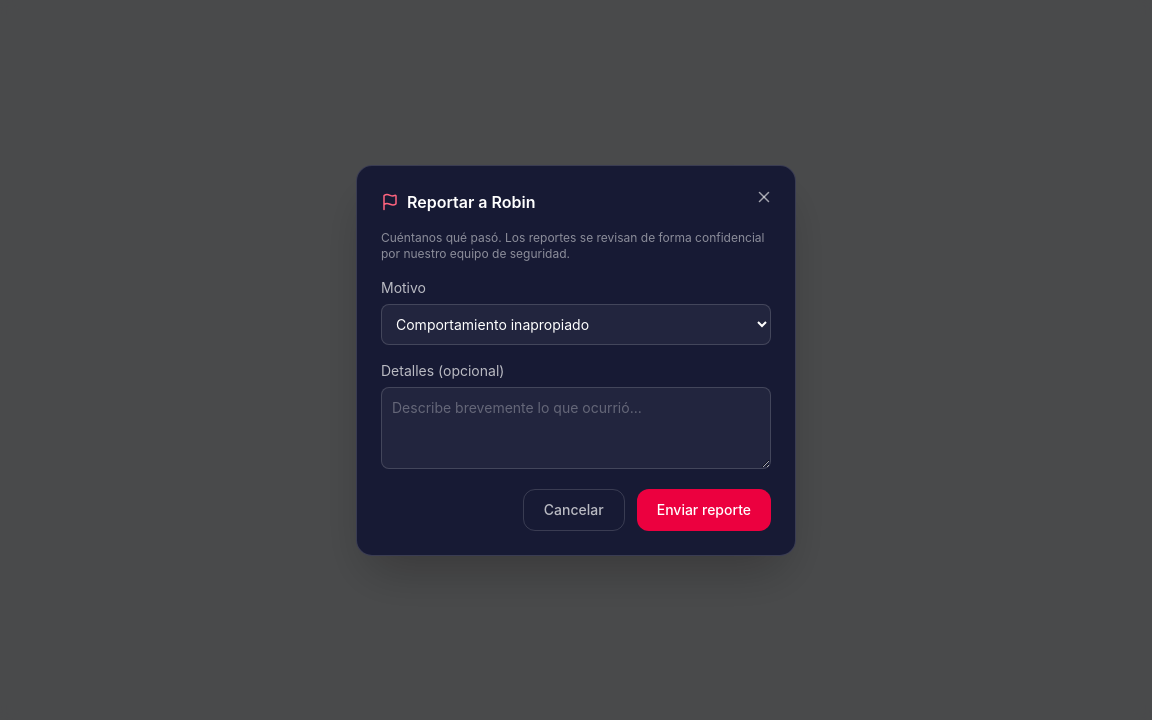
Test: ReportProfileModal › envía el reporte con el motivo seleccionado y muestra la confirmación
The width and height of the screenshot is (1152, 720).
Click the button "Enviar reporte" at point(704, 510), box [637,488,771,530]
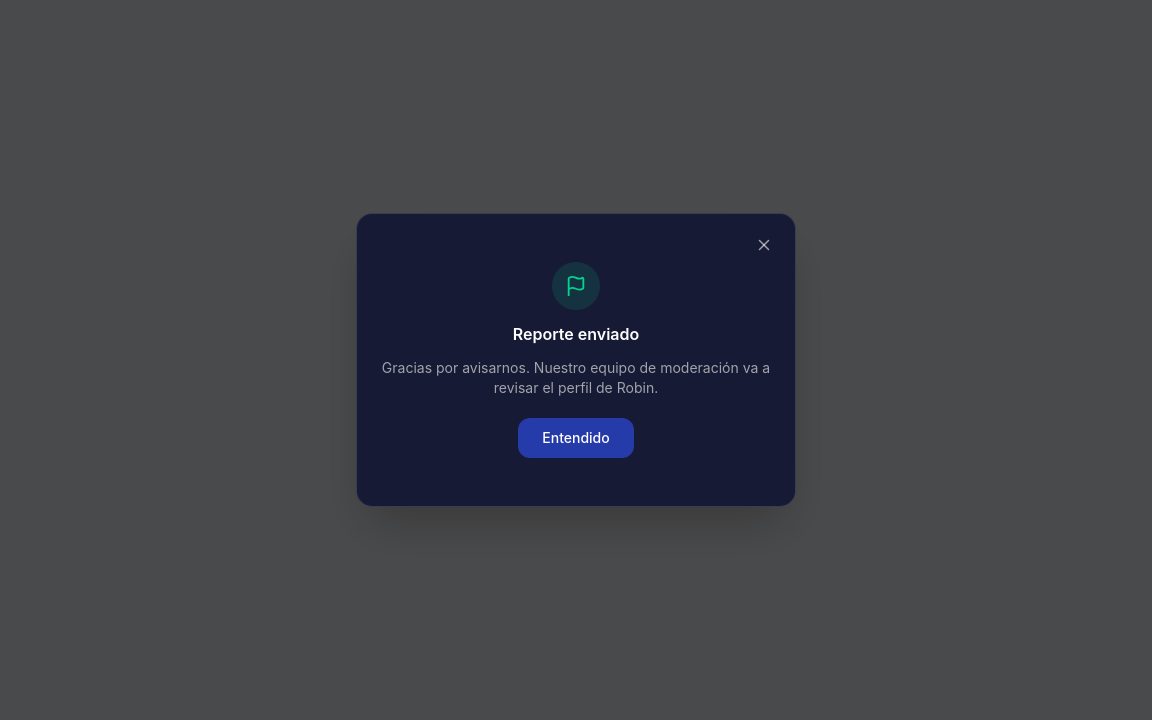
Expected: the heading "Reporte enviado" is shown, [513,322,639,346]
